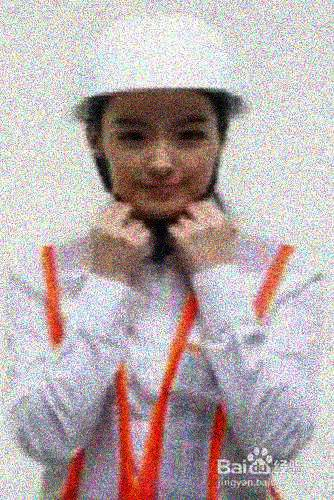helmet: (68, 9, 252, 225)
